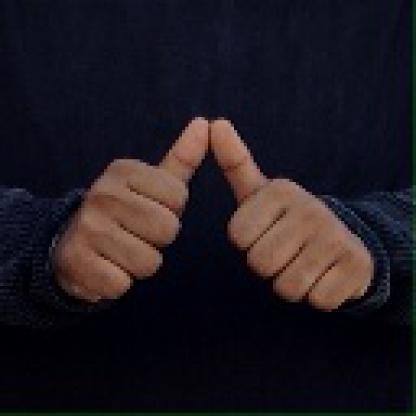A: (50, 114, 382, 315)
